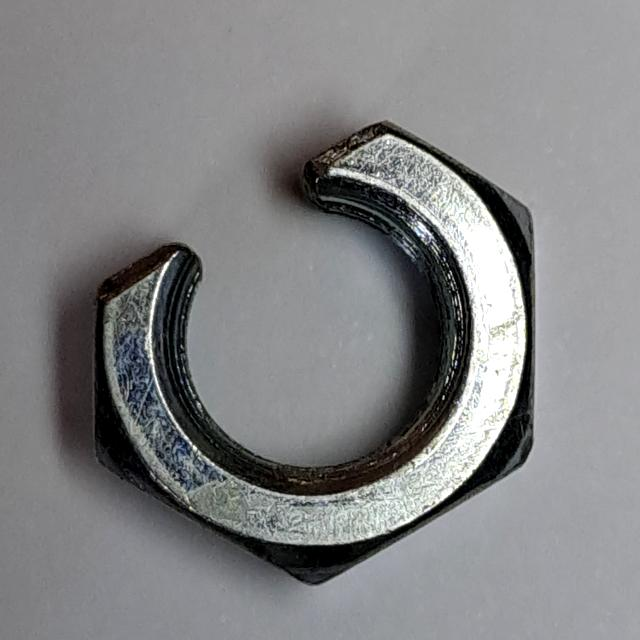Fracture: (77, 100, 553, 604)
